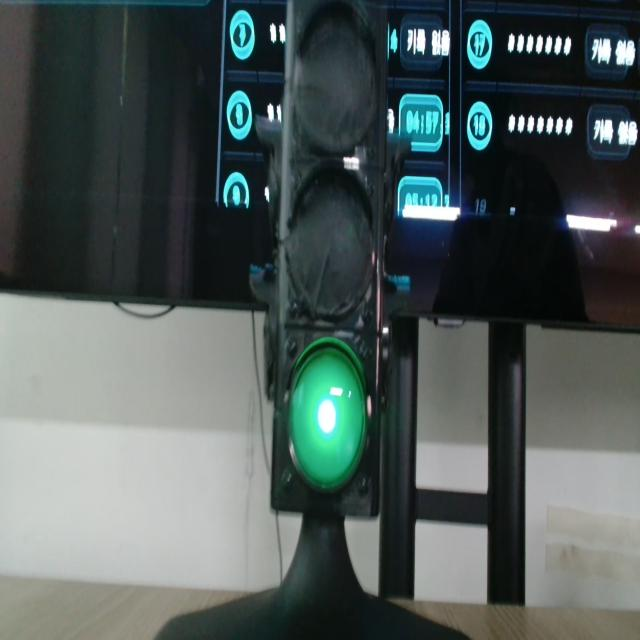green_light: (290, 339, 366, 490)
